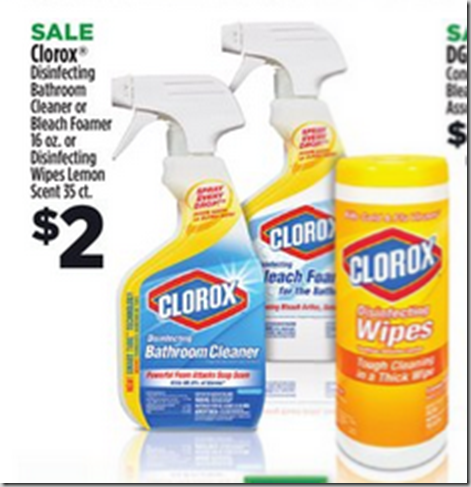Wipes: (332, 151, 452, 396)
